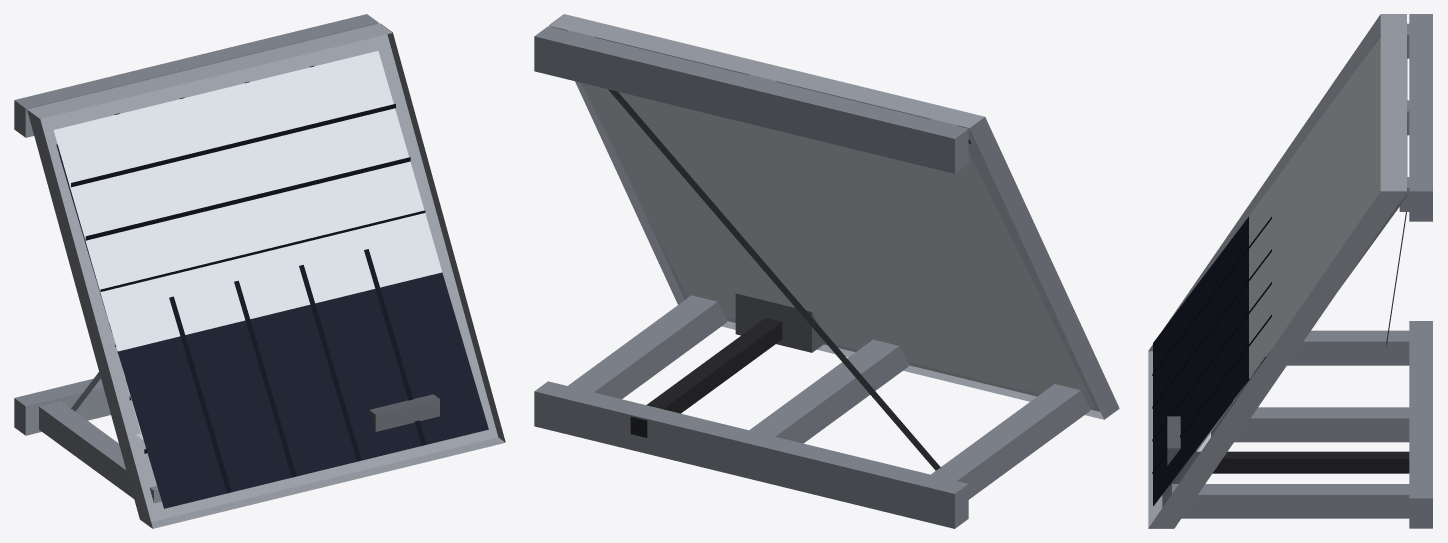
Rendered from array_ground_premium_snow_S.obj.
The picture shows the model from 3 angles, left to right: view 1: azimuth 30°, elevation 25°; view 2: azimuth 150°, elevation 25°; view 3: azimuth 270°, elevation 25°; orthographic projection. The views are drawn at different scales.
Parts seen in each view (by area): view 1: array_ground_premium_snow_S; view 2: array_ground_premium_snow_S; view 3: array_ground_premium_snow_S.
Boxes of the visible parts, left/top/right/bottom form: array_ground_premium_snow_S: left=14, top=14, right=505, bottom=528; array_ground_premium_snow_S: left=534, top=14, right=1119, bottom=528; array_ground_premium_snow_S: left=1148, top=14, right=1432, bottom=528.
Bounding box in the file's own units: 0.881 × 0.781 × 0.5989.
Materials: 1 (1 with a texture image).
